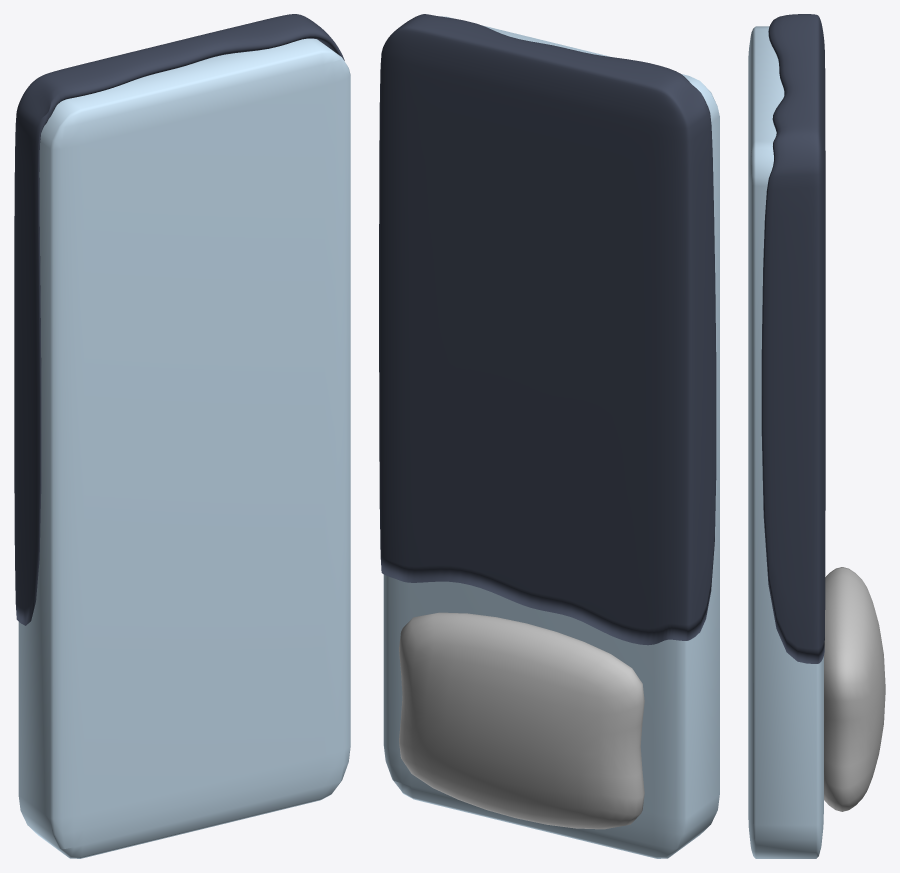
Rendered from Camping Bed.fbx.
3 views of the same model, side by side, from view 1: azimuth 30°, elevation 25°; view 2: azimuth 150°, elevation 25°; view 3: azimuth 270°, elevation 25° (orthographic). The views are drawn at different scales.
Visible parts, largest first — view 1: Bed; view 2: Bed; view 3: Bed.
Boxes of the visible parts, bbox=[...] form: Bed: bbox=[14, 14, 350, 858]; Bed: bbox=[379, 14, 719, 858]; Bed: bbox=[748, 14, 885, 858].
Bounding box in the file's own units: 73.7 × 173 × 29.59.
